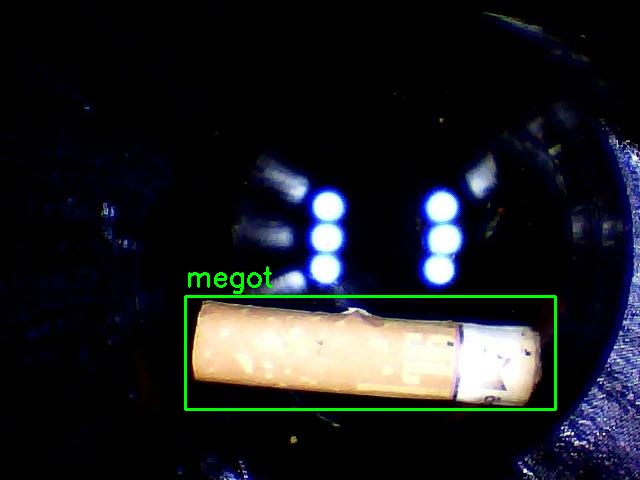megot: (185, 296, 555, 409)
